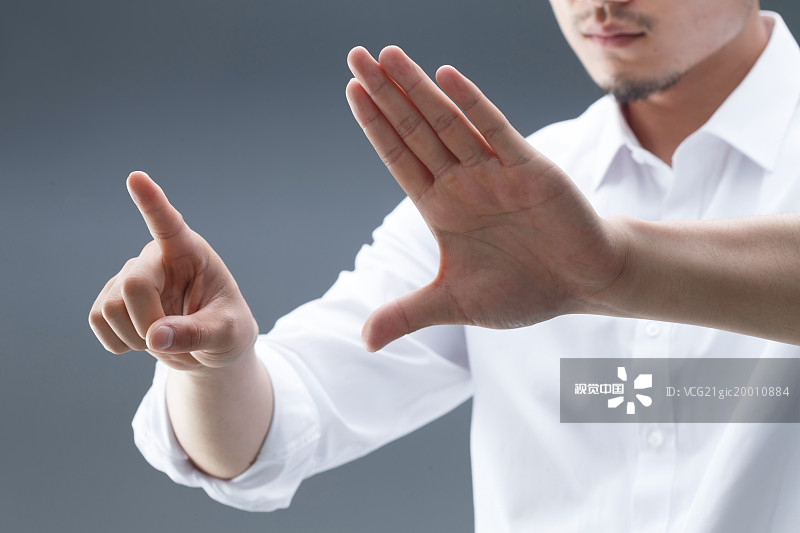no-phone: (307, 19, 642, 356), (50, 156, 270, 382)
